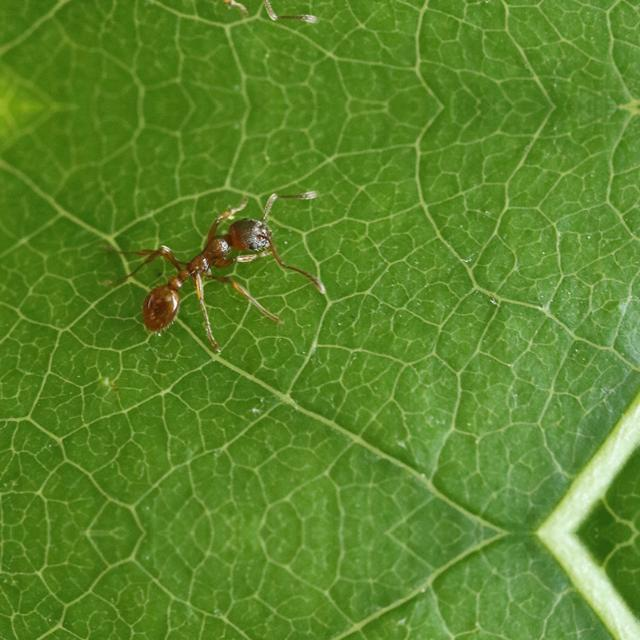Myrmica: (108, 201, 294, 345)
